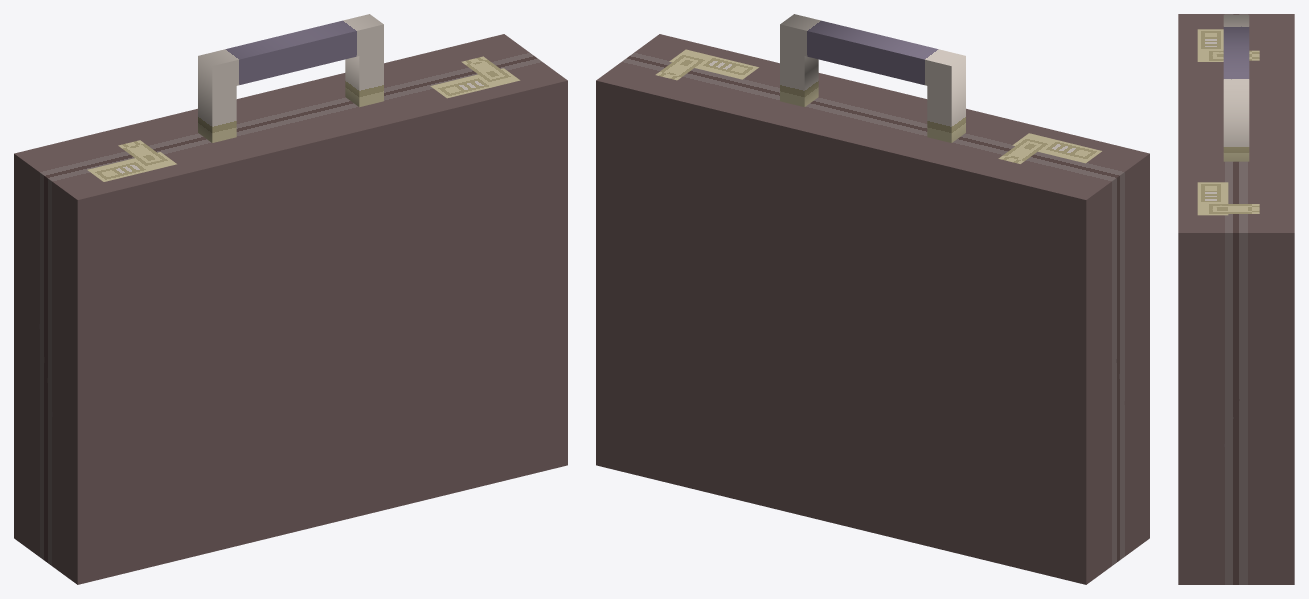
File: 0064_Briefcase.glb
3 renders of one model, left to right at view 1: azimuth 30°, elevation 25°; view 2: azimuth 150°, elevation 25°; view 3: azimuth 270°, elevation 25°, orthographic. The views are drawn at different scales.
Parts seen in each view (by area): view 1: part_0; view 2: part_0; view 3: part_0.
Part boxes in pixels (x1,y1,x2,y2): part_0: (14,14,567,584); part_0: (596,14,1149,584); part_0: (1178,14,1294,584).
Bounding box in the file's own units: 0.4 × 0.361 × 0.09.
Materials: 1 (1 with a texture image).
